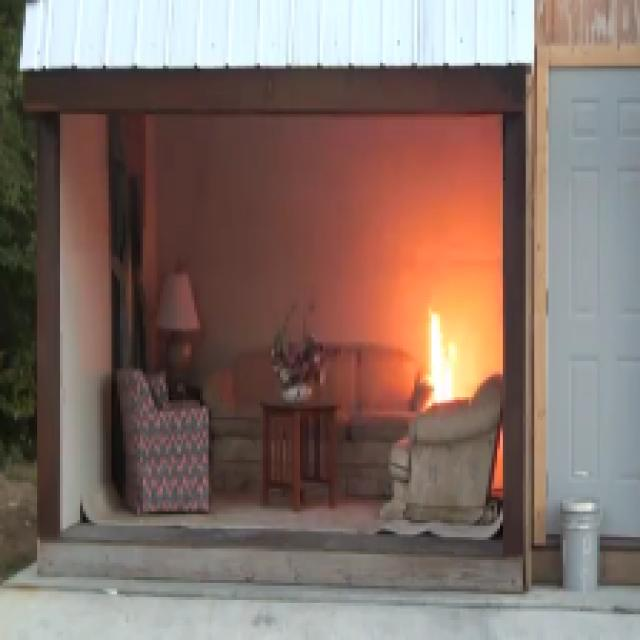fire: (410, 304, 460, 409)
